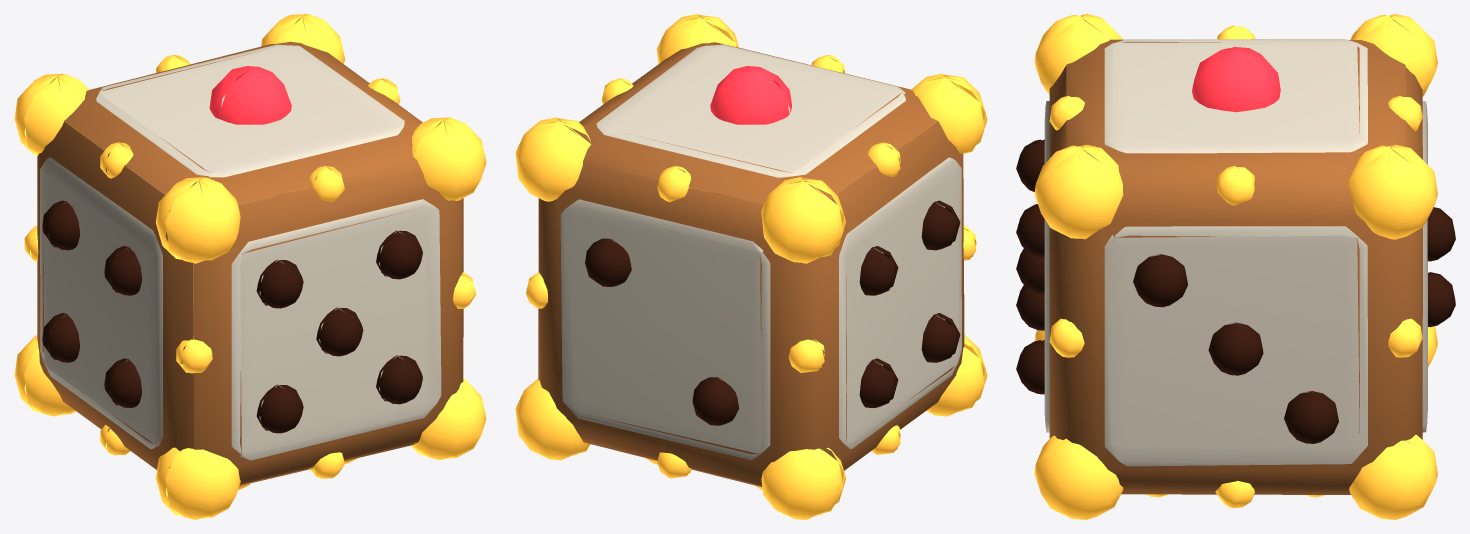
Rendered from bwed-dice.glb.
The picture shows the model from 3 angles, left to right: view 1: azimuth 30°, elevation 25°; view 2: azimuth 150°, elevation 25°; view 3: azimuth 270°, elevation 25°; orthographic projection. The views are drawn at different scales.
Parts seen in each view (by area): view 1: BriocheDiceBody, Cube.003, Cube, Cube.005, Sphere.022, Sphere.021, Sphere.026, Sphere, Sphere.024, Sphere.025, Sphere.023, Sphere.028 (+14 smaller); view 2: BriocheDiceBody, Cube.002, Cube, Cube.005, Sphere.024, Sphere.023, Sphere.028, Sphere, Sphere.022, Sphere.027, Sphere.021, Sphere.026 (+11 smaller); view 3: Cube.004, BriocheDiceBody, Cube, Sphere.028, Sphere.026, Sphere.027, Sphere.025, Sphere, Sphere.022, Sphere.024, Sphere.015, Sphere.014 (+16 smaller).
Boxes of the visible parts, bbox=[...] form: BriocheDiceBody: bbox=[37, 41, 463, 485]; Cube.003: bbox=[231, 199, 441, 460]; Cube: bbox=[96, 44, 404, 177]; Cube.005: bbox=[40, 157, 162, 449]; Sphere.022: bbox=[155, 177, 240, 263]; Sphere.021: bbox=[155, 447, 240, 519]; Sphere.026: bbox=[412, 117, 486, 200]; Sphere: bbox=[209, 66, 291, 124]; Sphere.024: bbox=[14, 73, 89, 155]; Sphere.025: bbox=[411, 379, 486, 460]; Sphere.023: bbox=[14, 335, 75, 416]; Sphere.028: bbox=[261, 14, 345, 63]; BriocheDiceBody: bbox=[538, 42, 964, 486]; Cube.002: bbox=[560, 199, 770, 460]; Cube: bbox=[596, 44, 905, 177]; Cube.005: bbox=[839, 157, 961, 448]; Sphere.024: bbox=[761, 177, 846, 263]; Sphere.023: bbox=[761, 448, 845, 519]; Sphere.028: bbox=[515, 117, 590, 201]; Sphere: bbox=[710, 66, 791, 124]; Sphere.022: bbox=[911, 73, 987, 154]; Sphere.027: bbox=[515, 379, 590, 460]; Sphere.021: bbox=[926, 334, 987, 416]; Sphere.026: bbox=[657, 14, 739, 63]; Cube.004: bbox=[1104, 226, 1367, 466]; BriocheDiceBody: bbox=[1049, 39, 1422, 494]; Cube: bbox=[1104, 39, 1367, 153]; Sphere.028: bbox=[1348, 144, 1437, 239]; Sphere.026: bbox=[1034, 144, 1123, 239]; Sphere.027: bbox=[1349, 434, 1437, 519]; Sphere.025: bbox=[1034, 435, 1123, 519]; Sphere: bbox=[1192, 47, 1280, 112]; Sphere.022: bbox=[1034, 14, 1123, 95]; Sphere.024: bbox=[1350, 14, 1437, 96]; Sphere.015: bbox=[1208, 322, 1263, 375]; Sphere.014: bbox=[1133, 254, 1187, 307].
Bounding box in the file's own units: 2.33 × 2.44 × 2.33.
